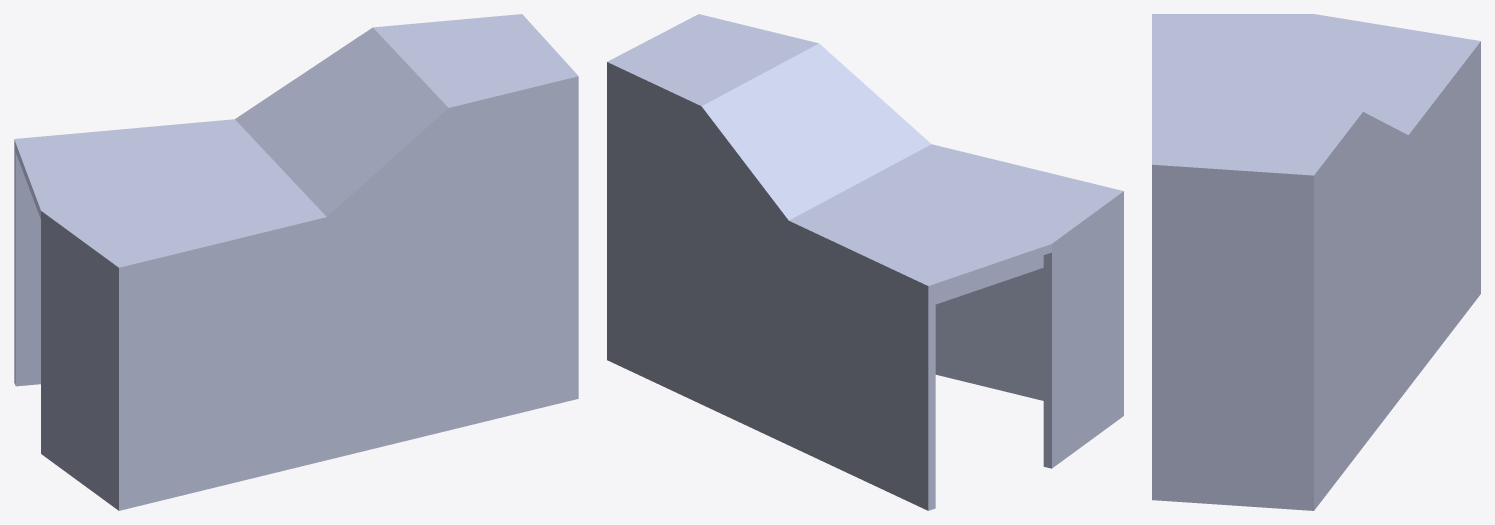
File: 20210605_Room_Koerner_places.gltf
3 views of the same model, side by side, from view 1: azimuth 30°, elevation 25°; view 2: azimuth 150°, elevation 25°; view 3: azimuth 270°, elevation 25° (orthographic). The views are drawn at different scales.
Parts seen in each view (by area): view 1: color; view 2: color; view 3: color.
Boxes of the visible parts, x1,y1,x2,y2 form: color: (14, 14, 578, 510); color: (607, 14, 1123, 510); color: (1152, 14, 1480, 510).
Size of the model in its own units: 8.12 by 5.2 by 4.62.
